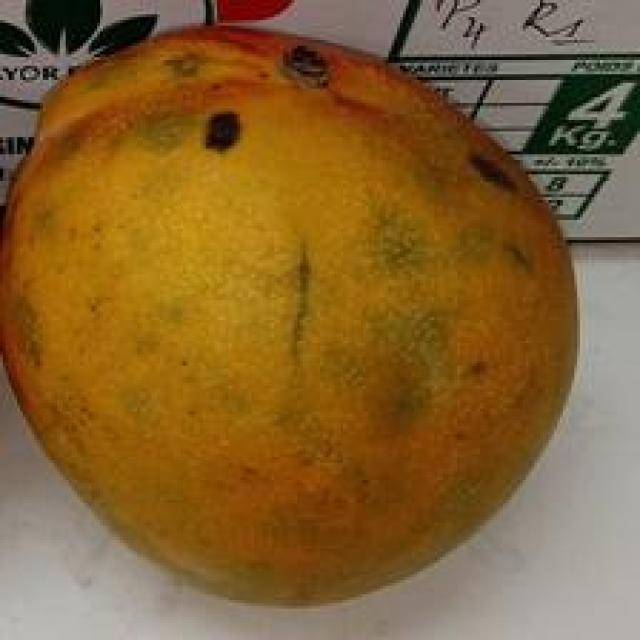Mango: (0, 37, 582, 609)
